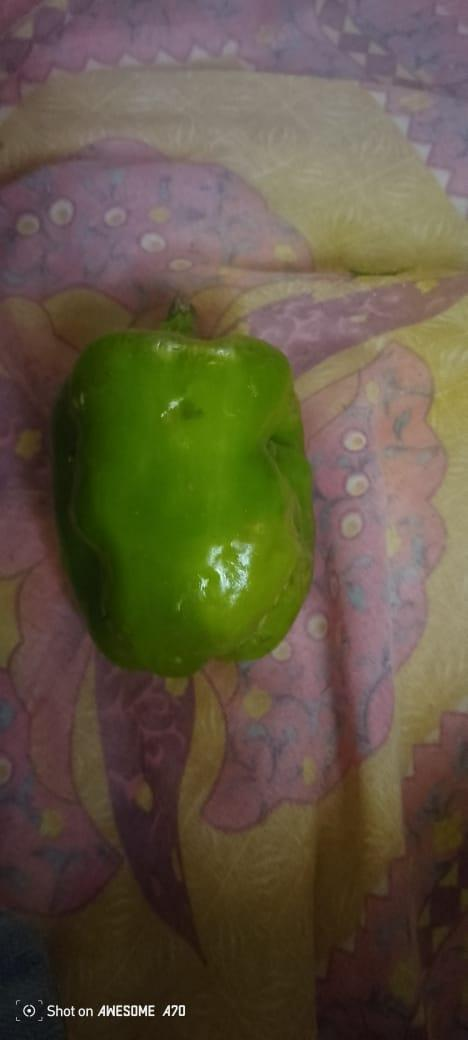non-mango: (53, 324, 296, 658)
